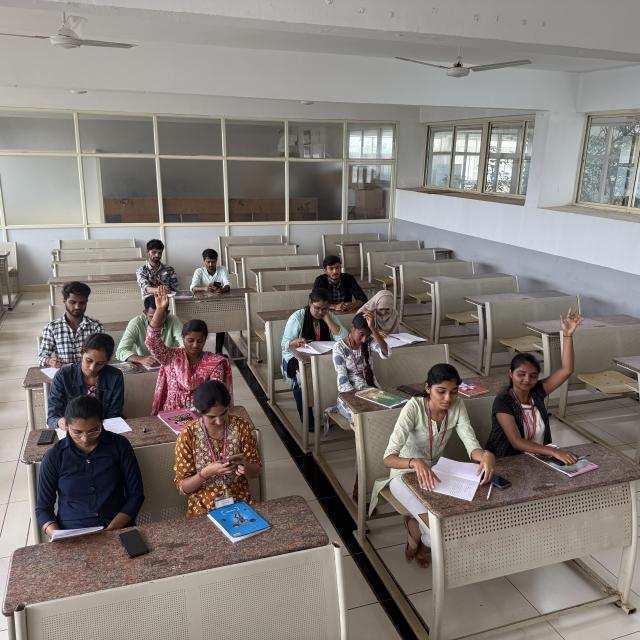Hand Rising: (494, 306, 597, 463), (146, 285, 234, 383)
Reading: (24, 397, 141, 545), (379, 364, 499, 501), (116, 294, 181, 374), (362, 286, 428, 345)
Using Phone: (169, 380, 261, 515), (185, 245, 236, 296)
Writing: (43, 332, 136, 436), (40, 279, 98, 378), (282, 289, 348, 357), (130, 236, 183, 298)
